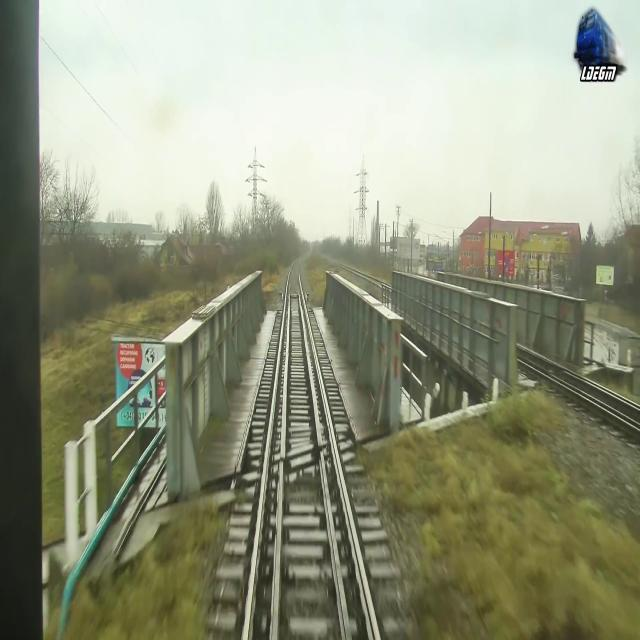rail-track: (248, 256, 375, 639), (518, 349, 640, 420)
